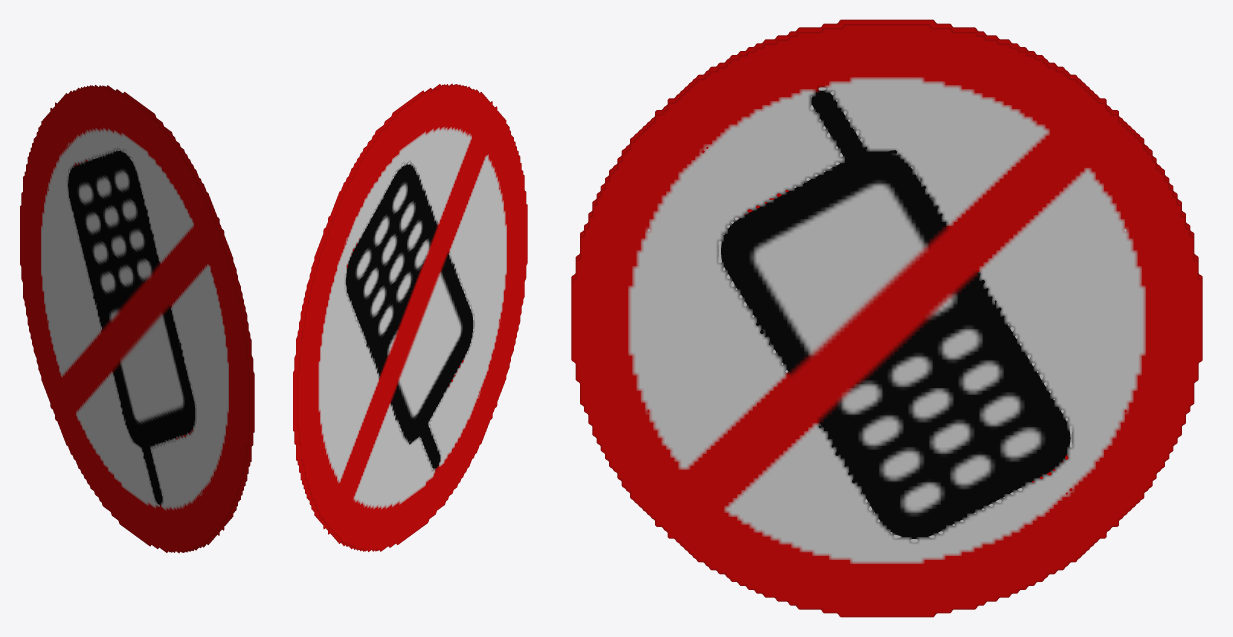
File: DecalNoPhones.fbx
3 views of the same model, side by side, from view 1: azimuth 30°, elevation 25°; view 2: azimuth 150°, elevation 25°; view 3: azimuth 270°, elevation 25° (orthographic). The views are drawn at different scales.
Visible parts, largest first — view 1: DecalNoPhones; view 2: DecalNoPhones; view 3: DecalNoPhones.
Boxes of the visible parts, bbox=[...] form: DecalNoPhones: bbox=[20, 85, 254, 553]; DecalNoPhones: bbox=[293, 83, 527, 551]; DecalNoPhones: bbox=[571, 19, 1202, 617].
Bounding box in the file's own units: 5.01e-05 × 0.00435 × 0.00429.
